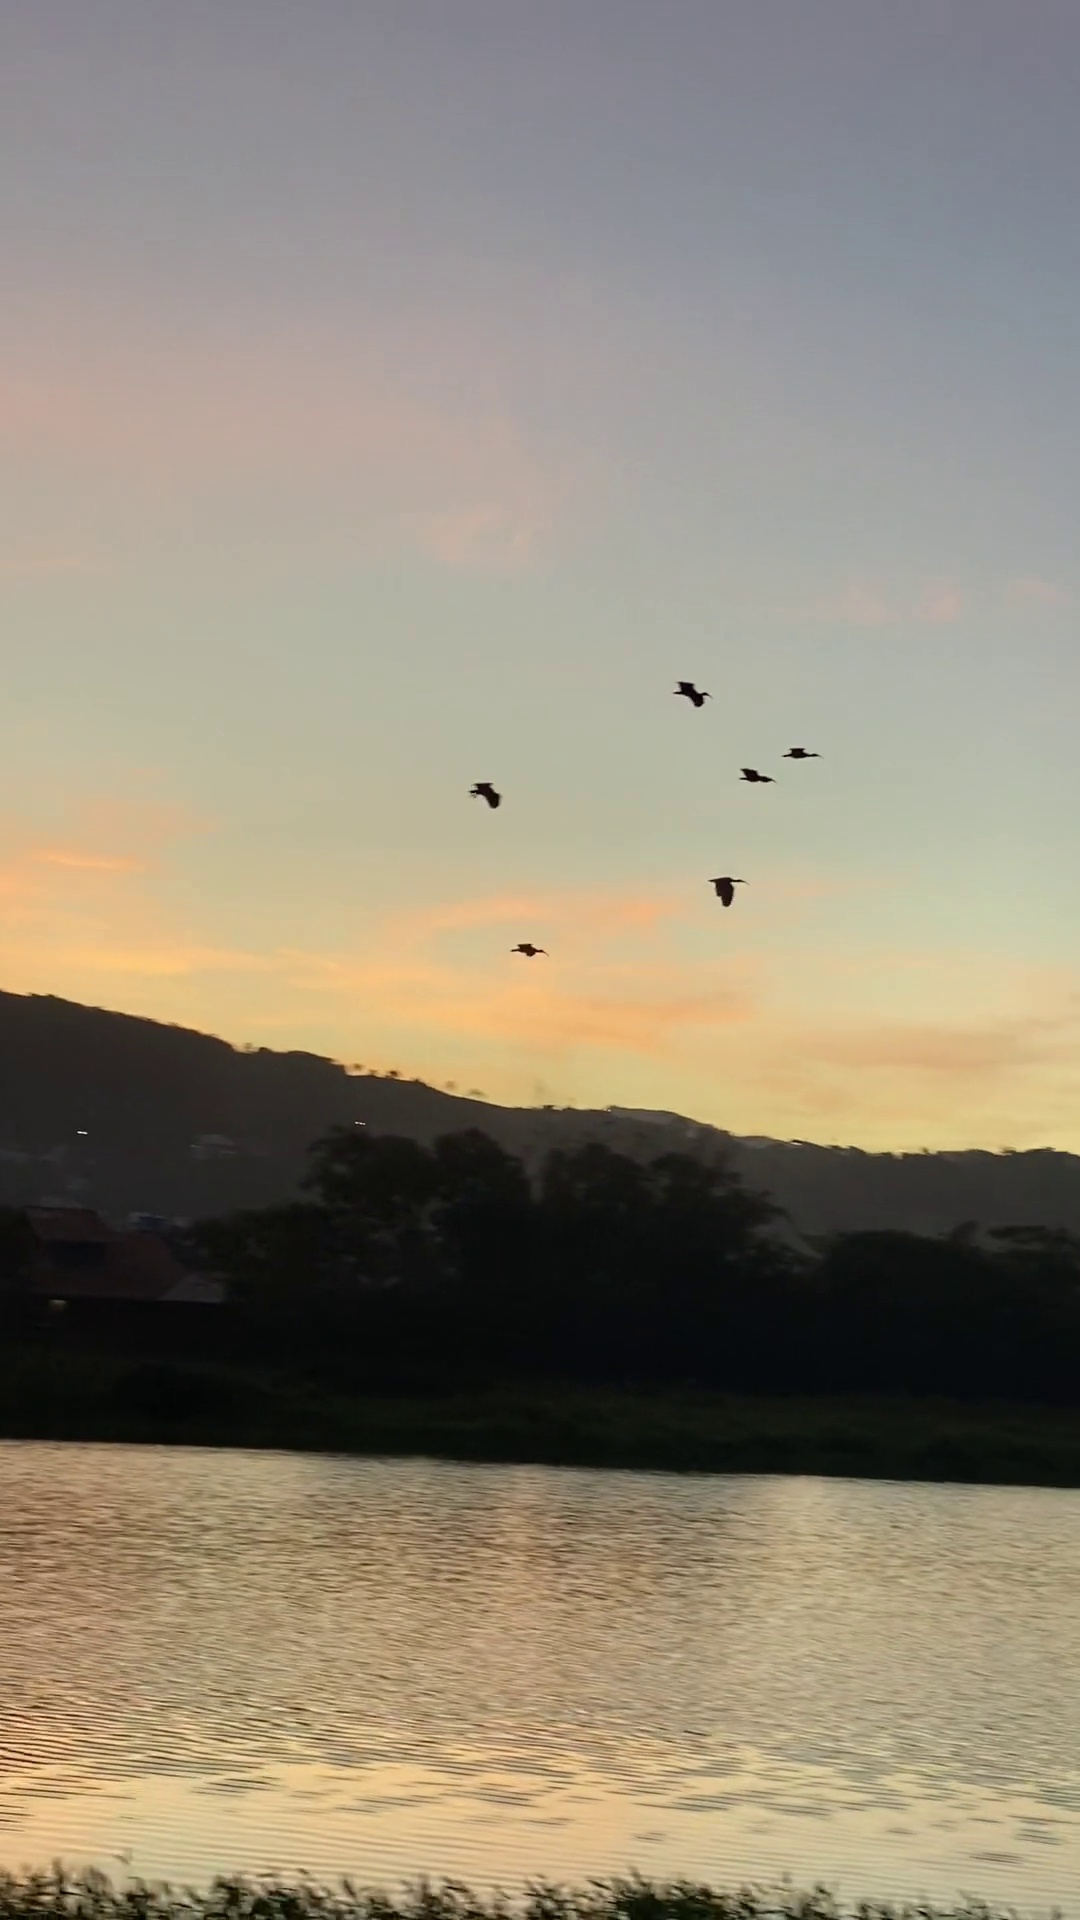bird: (709, 877, 746, 905), (674, 682, 712, 707), (469, 783, 500, 808), (740, 766, 774, 783), (510, 942, 547, 957), (782, 746, 823, 760)
